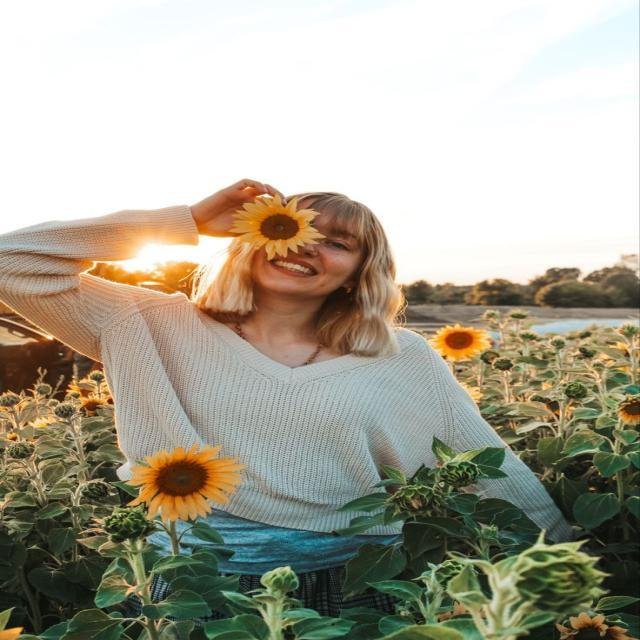sunflower: (124, 442, 246, 522), (228, 193, 326, 260), (426, 322, 492, 362), (524, 382, 580, 422), (554, 612, 633, 640), (610, 342, 640, 375), (438, 601, 486, 620), (28, 416, 62, 442), (614, 397, 638, 425), (78, 396, 108, 416), (458, 381, 484, 402), (65, 381, 97, 396), (0, 626, 24, 640), (7, 432, 37, 443), (0, 401, 24, 414), (101, 395, 116, 405)
